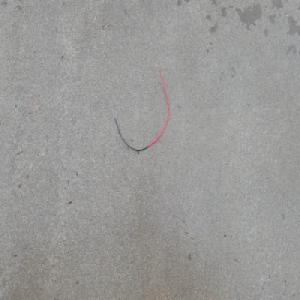Wire: (109, 62, 170, 155)
